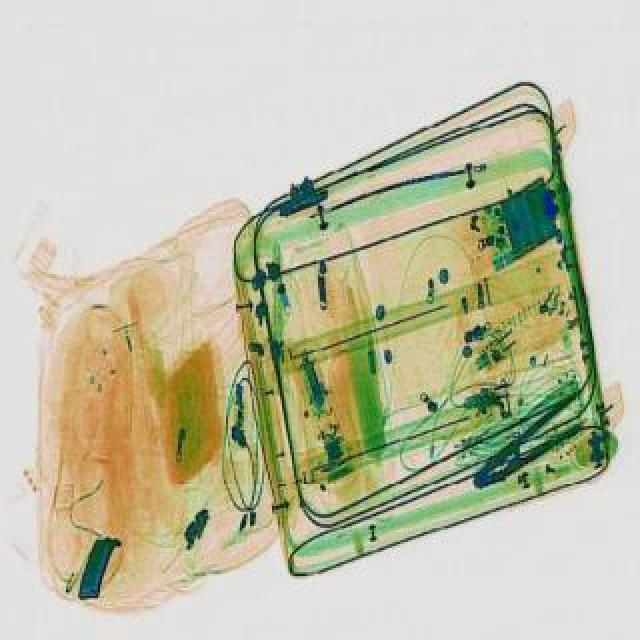wrench: (460, 388, 596, 496)
